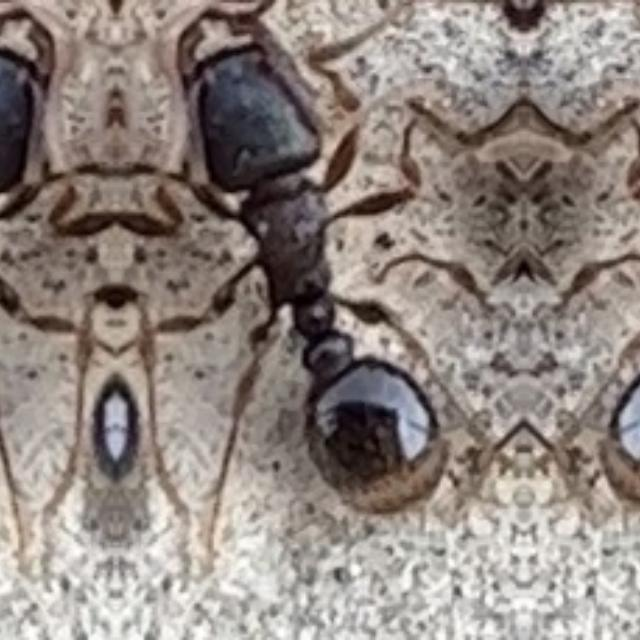Tetramorium: (115, 0, 523, 632), (522, 0, 640, 632), (0, 0, 114, 632)
